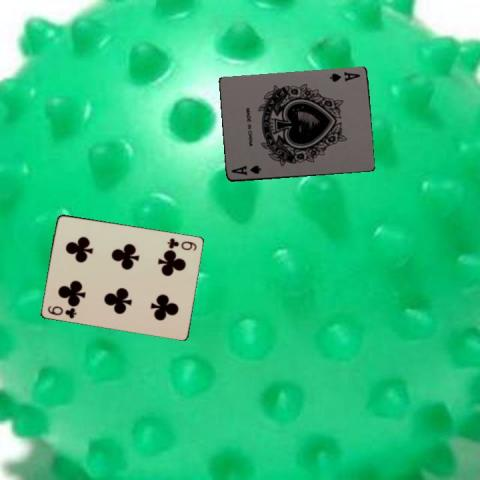6c: (45, 302, 78, 320), (165, 235, 198, 252)
As: (228, 162, 263, 177), (327, 70, 361, 84)
